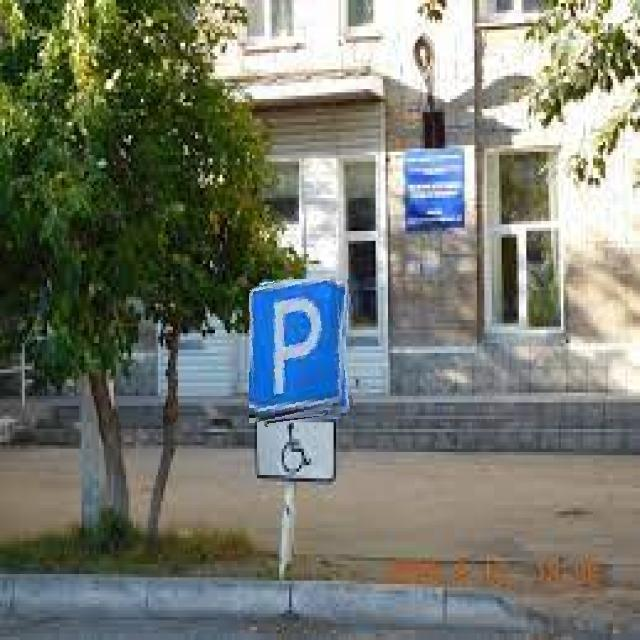parking: (249, 279, 350, 424)
